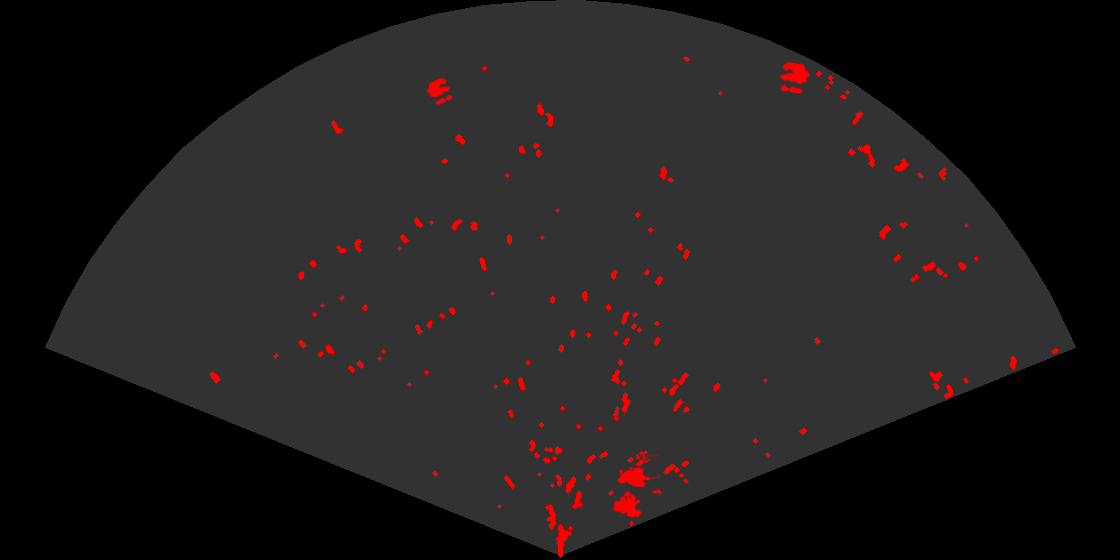ball: (778, 60, 811, 96), (425, 76, 454, 106)
cage: (611, 454, 660, 520)
